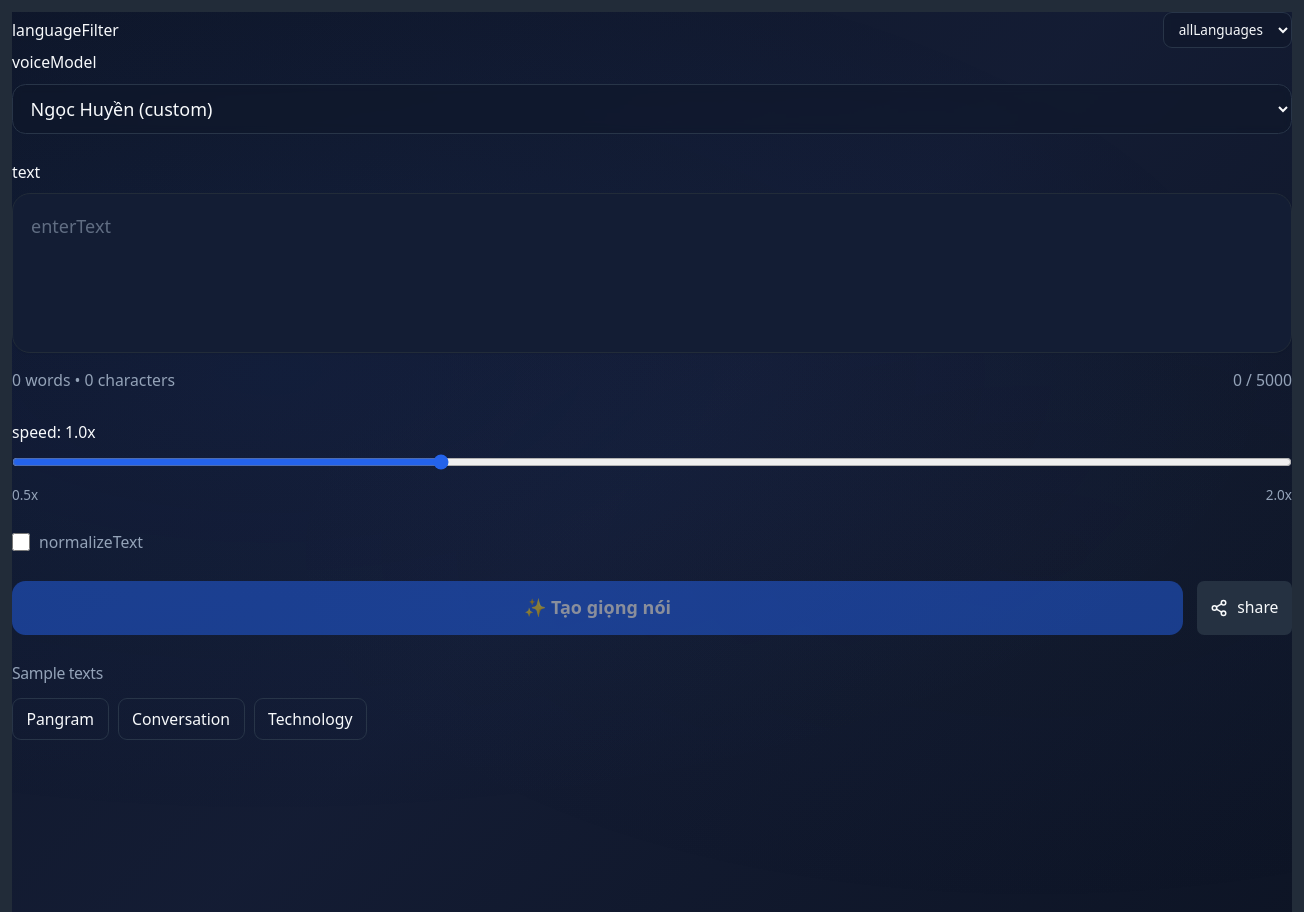
TtsGenerator › updates character count when text changes
The width and height of the screenshot is (1304, 912).
In the text box labelled "text": [652, 272] box x1=12 y1=192 x2=1292 y2=352, type "Hello world"
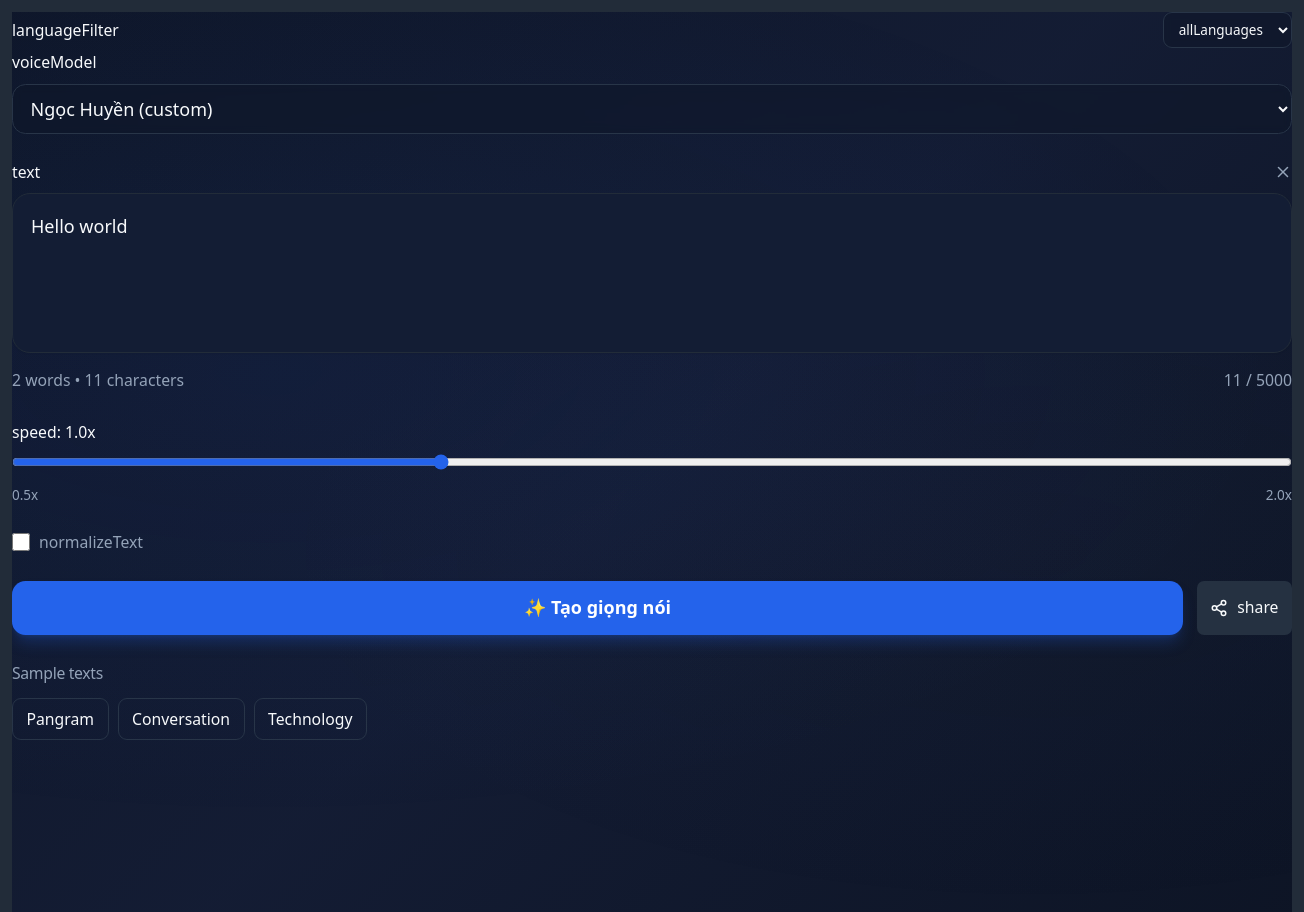
Now the text "11 / 5000" is shown, box x1=1224 y1=368 x2=1292 y2=391
